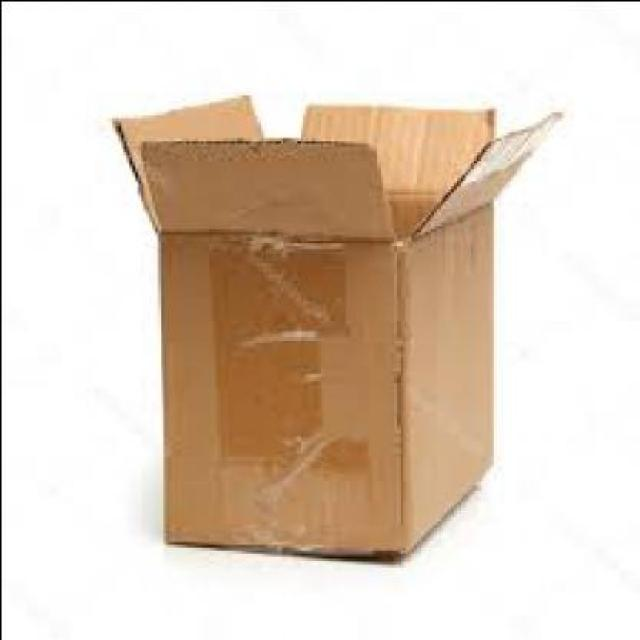CARDBOARD: (114, 94, 566, 552)
